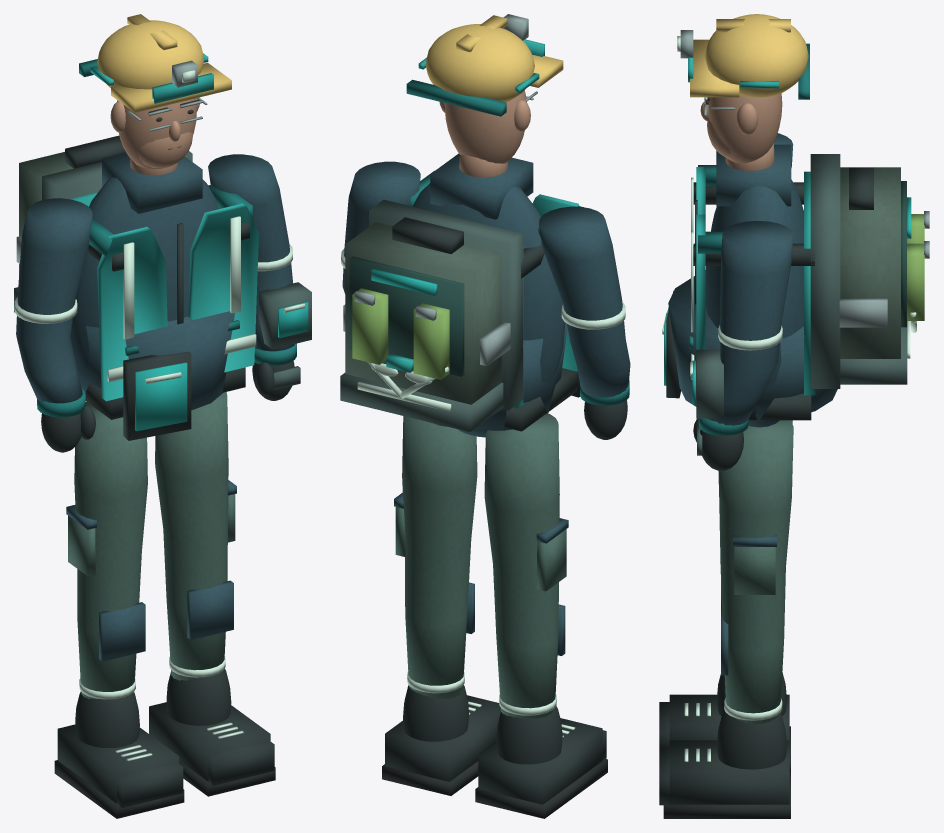
Rendered from EngineerPlayer.glb.
3 renders of one model, left to right at view 1: azimuth 30°, elevation 25°; view 2: azimuth 150°, elevation 25°; view 3: azimuth 270°, elevation 25°, orthographic. The views are drawn at different scales.
Visible parts, largest first — view 1: Continuous trouser leg Right, Continuous trouser leg Left, Continuous jacket sleeve Left, Jacket core, Vest shaped front Right, Vest shaped front Left, Jacket lower taper, Continuous jacket sleeve Right, Helmet dome, Boot foot Left, Boot foot Right, Jacket collar (+29 smaller); view 2: Continuous trouser leg Left, Continuous trouser leg Right, Continuous jacket sleeve Left, Field pack weatherproof shell, Jacket core, Helmet dome, Field pack mounting plate, Field pack rear instrument panel, Boot foot Left, Boot foot Right, Field pack reinforced lower tray, Jacket collar (+22 smaller); view 3: Continuous trouser leg Right, Continuous jacket sleeve Right, Field pack weatherproof shell, Field pack mounting plate, Helmet dome, Boot foot Right, Jacket core, Jacket lower taper, Head and jaw, Boot ankle Right, Jacket collar, Boot foot Left (+24 smaller).
Boxes of the visible parts, box(x1,y1,x2,y2) form: Continuous trouser leg Right: box(155, 392, 228, 680); Continuous trouser leg Left: box(74, 402, 147, 699); Continuous jacket sleeve Left: box(16, 198, 92, 403); Jacket core: box(70, 177, 217, 369); Vest shaped front Right: box(188, 203, 258, 372); Vest shaped front Left: box(97, 227, 167, 401); Jacket lower taper: box(75, 311, 234, 410); Continuous jacket sleeve Right: box(208, 154, 294, 351); Helmet dome: box(97, 20, 204, 89); Boot foot Left: box(57, 724, 179, 803); Boot foot Right: box(149, 702, 270, 780); Jacket collar: box(102, 152, 202, 213); Continuous trouser leg Left: box(484, 413, 559, 718); Continuous trouser leg Right: box(402, 416, 477, 698); Continuous jacket sleeve Left: box(539, 206, 630, 397); Field pack weatherproof shell: box(345, 222, 501, 404); Jacket core: box(412, 183, 565, 437); Helmet dome: box(425, 24, 534, 102); Field pack mounting plate: box(369, 199, 522, 410); Field pack rear instrument panel: box(349, 256, 464, 376); Boot foot Left: box(478, 718, 602, 804); Boot foot Right: box(385, 695, 500, 781); Field pack reinforced lower tray: box(340, 373, 503, 431); Jacket collar: box(430, 153, 533, 219); Continuous trouser leg Right: box(718, 420, 793, 724); Continuous jacket sleeve Right: box(707, 221, 793, 425); Field pack weatherproof shell: box(840, 167, 900, 358); Field pack mounting plate: box(810, 154, 840, 388); Helmet dome: box(705, 14, 808, 97); Boot foot Right: box(669, 740, 789, 804); Jacket core: box(705, 179, 803, 427); Jacket lower taper: box(668, 276, 837, 420); Head and jaw: box(708, 93, 782, 163); Boot ankle Right: box(717, 710, 786, 769); Jacket collar: box(716, 144, 791, 206); Boot foot Left: box(669, 694, 789, 740).
Size of the model in its own units: 0.704 by 1.84 by 0.5945.
17 materials, 17 textured.
